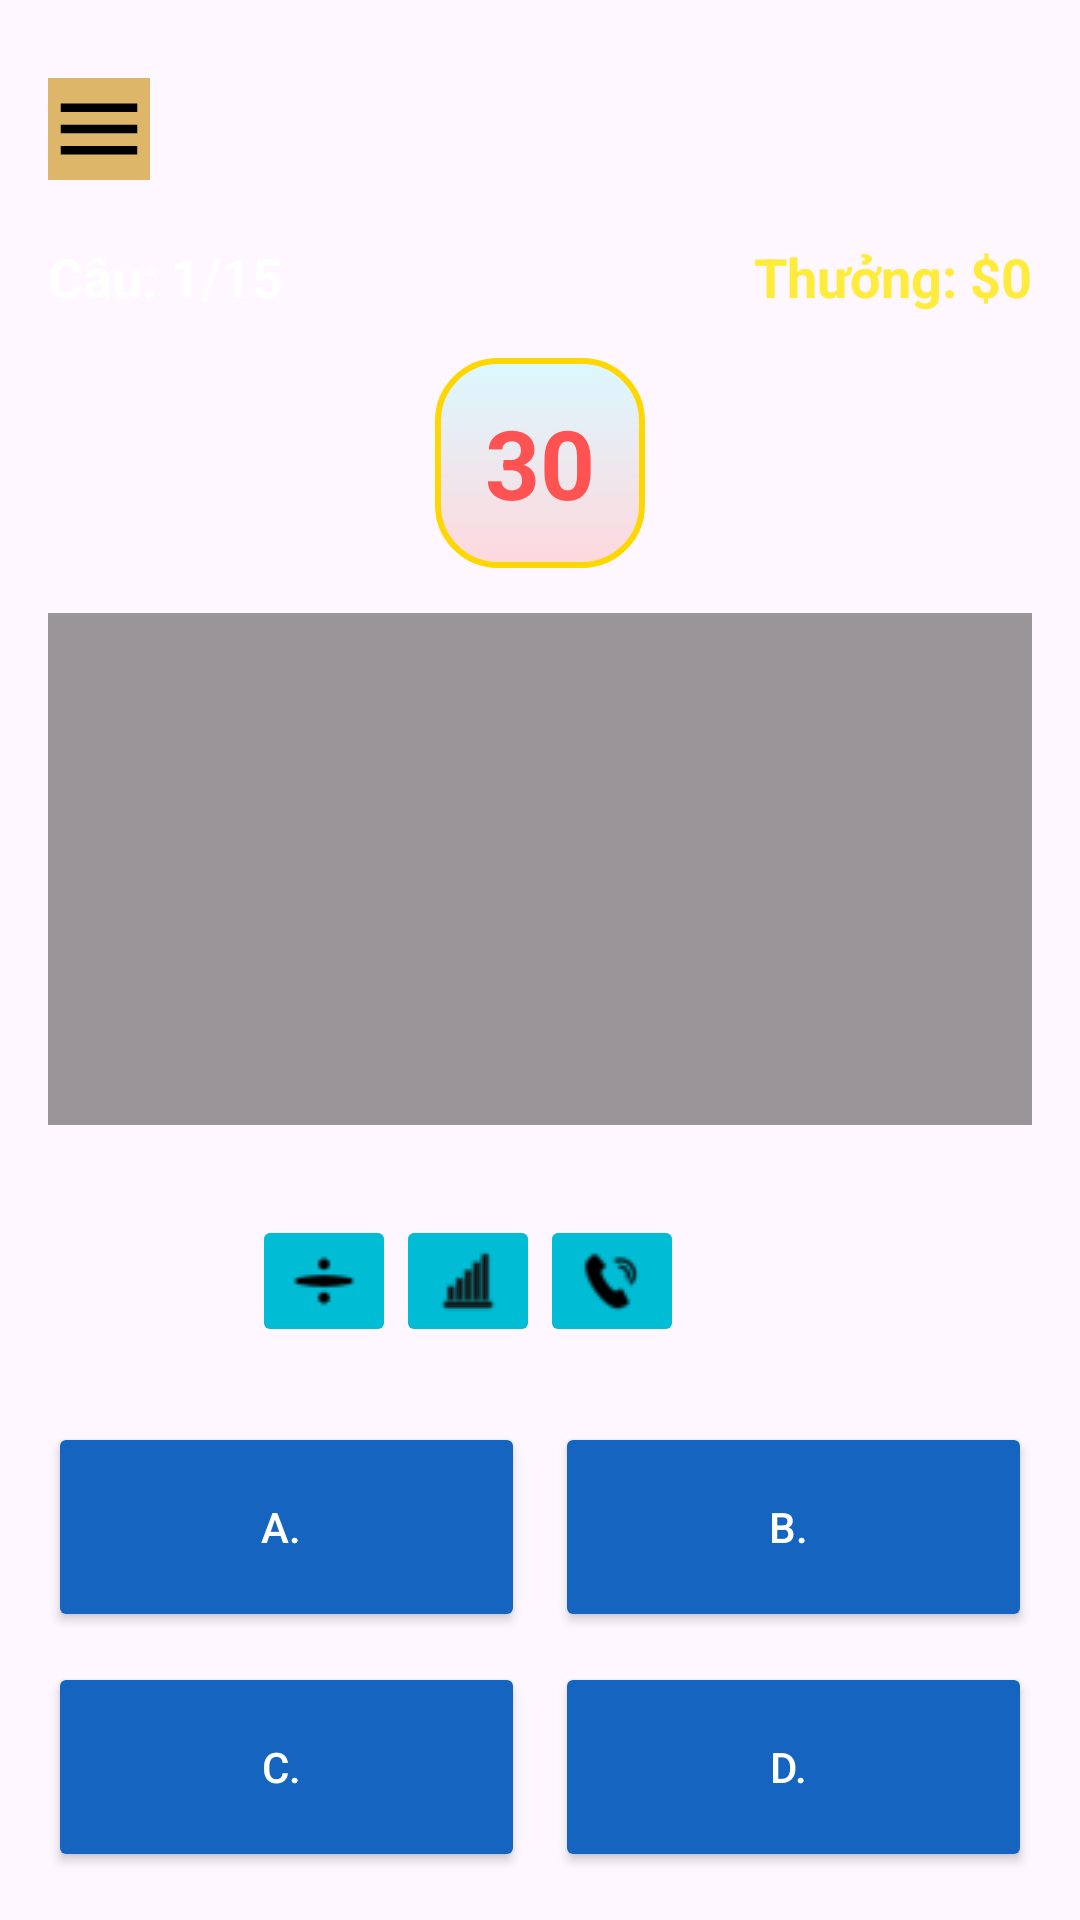

Named icons in this screenshot (1080×1920) and their centers, (x=x, y=y):
menu: (x=99, y=129)
phone call: (x=612, y=1281)
statistic: (x=468, y=1281)
